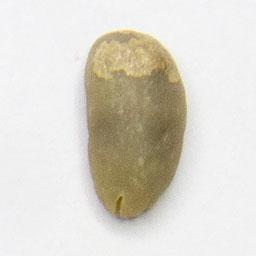longberry: (78, 25, 191, 222)
